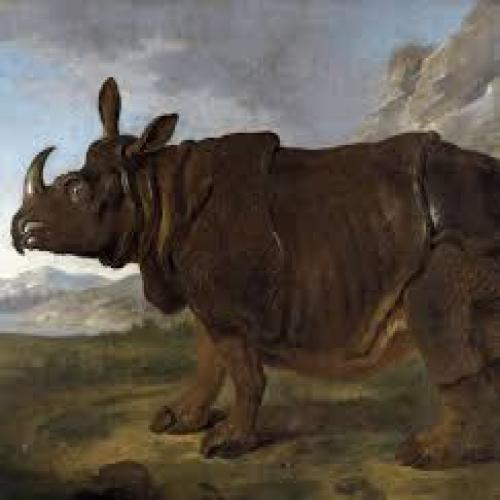rhino-endangered: (13, 82, 500, 462)
